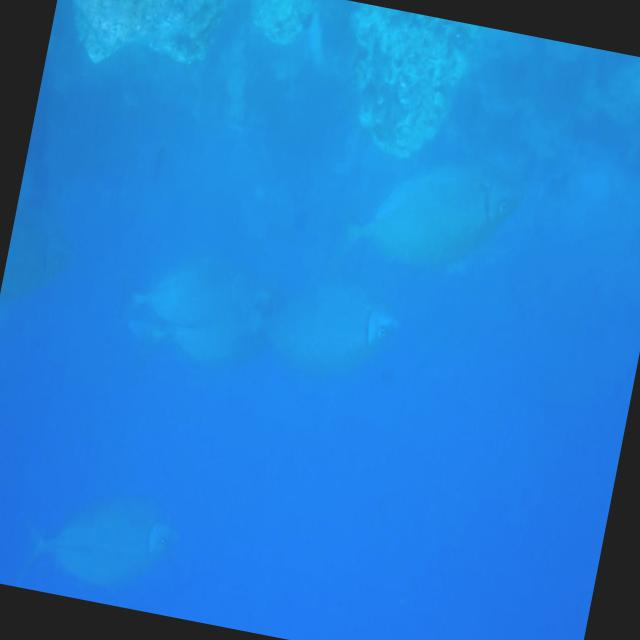Sokar Baligi: (318, 116, 542, 314), (0, 465, 189, 615)
